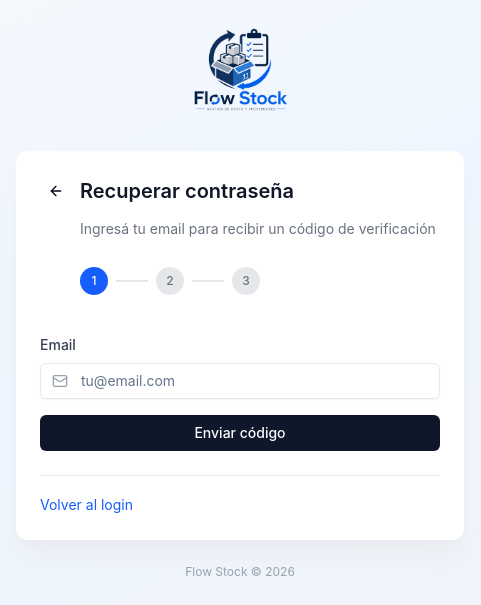
Scenario: ResetPasswordPage › Paso 2 - Código › retorna al paso 1 con botón de retroceso
Type "test@test.com" into the field with placeholder "tu@email.com" at (240, 380), box [40,362,440,398]
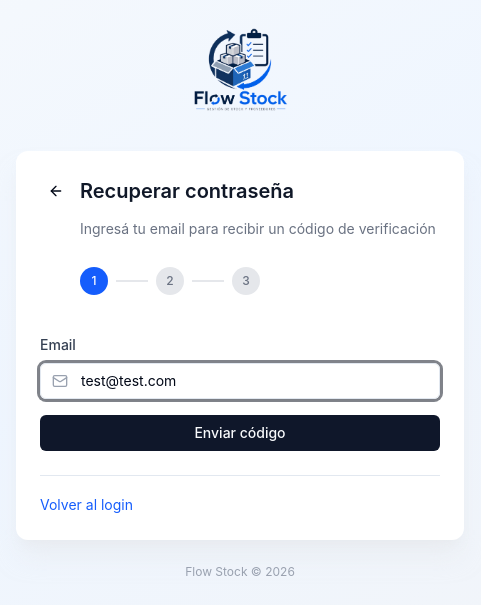
Click the button "Enviar código" at (240, 432), box [40,414,440,450]
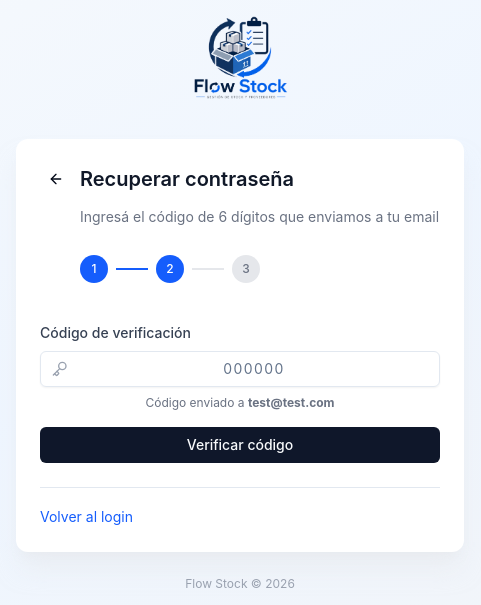
Check: the text "Ingresá el código de 6 dígitos que enviamos a tu email" is shown, box [80,206,440,226]
Click the 1st button at (56, 178), box [40,162,72,194]
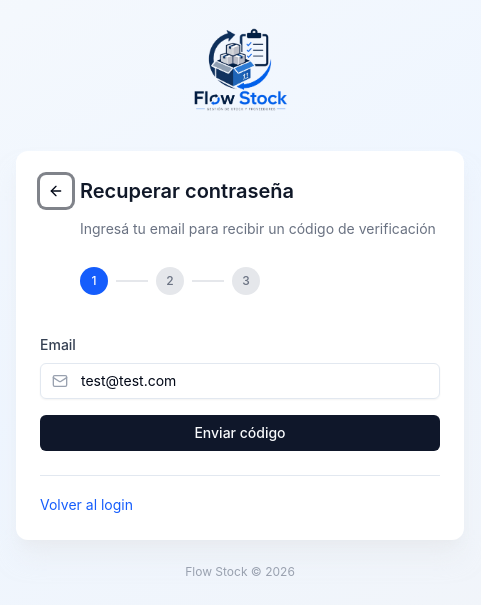
Check: the text "Ingresá tu email para recibir un código de verificación" is shown, box [80,218,440,238]
